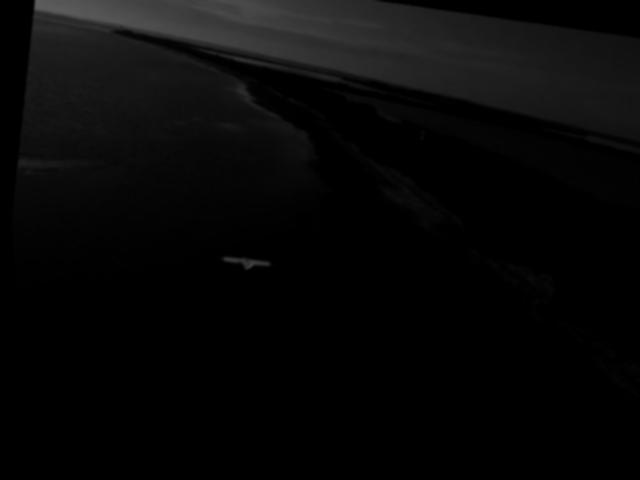hedef: (203, 240, 283, 290)
